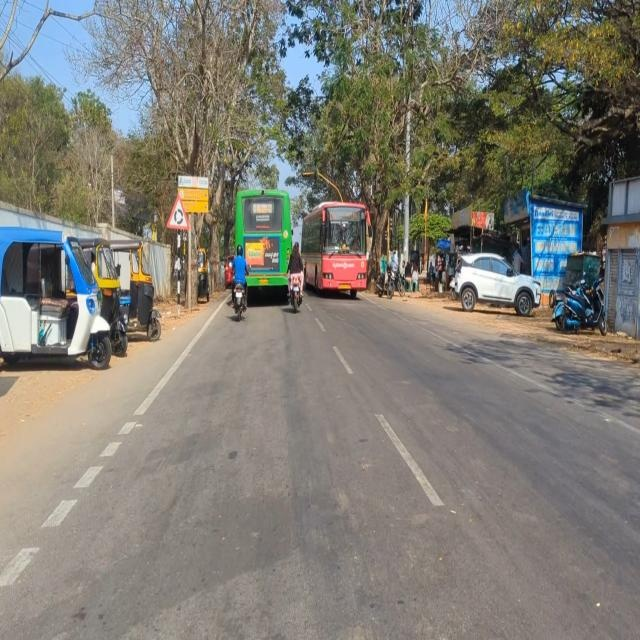bien_nguy_hiem: (167, 193, 190, 232)
